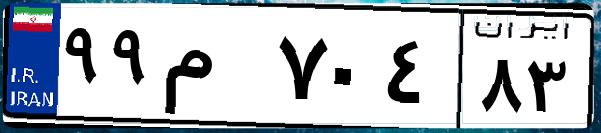0: (330, 28, 385, 110)
3: (525, 38, 570, 115)
4: (385, 28, 445, 110)
7: (270, 28, 330, 110)
8: (475, 38, 525, 113)
9: (57, 26, 110, 100), (110, 28, 158, 98)
م: (158, 20, 270, 120)
